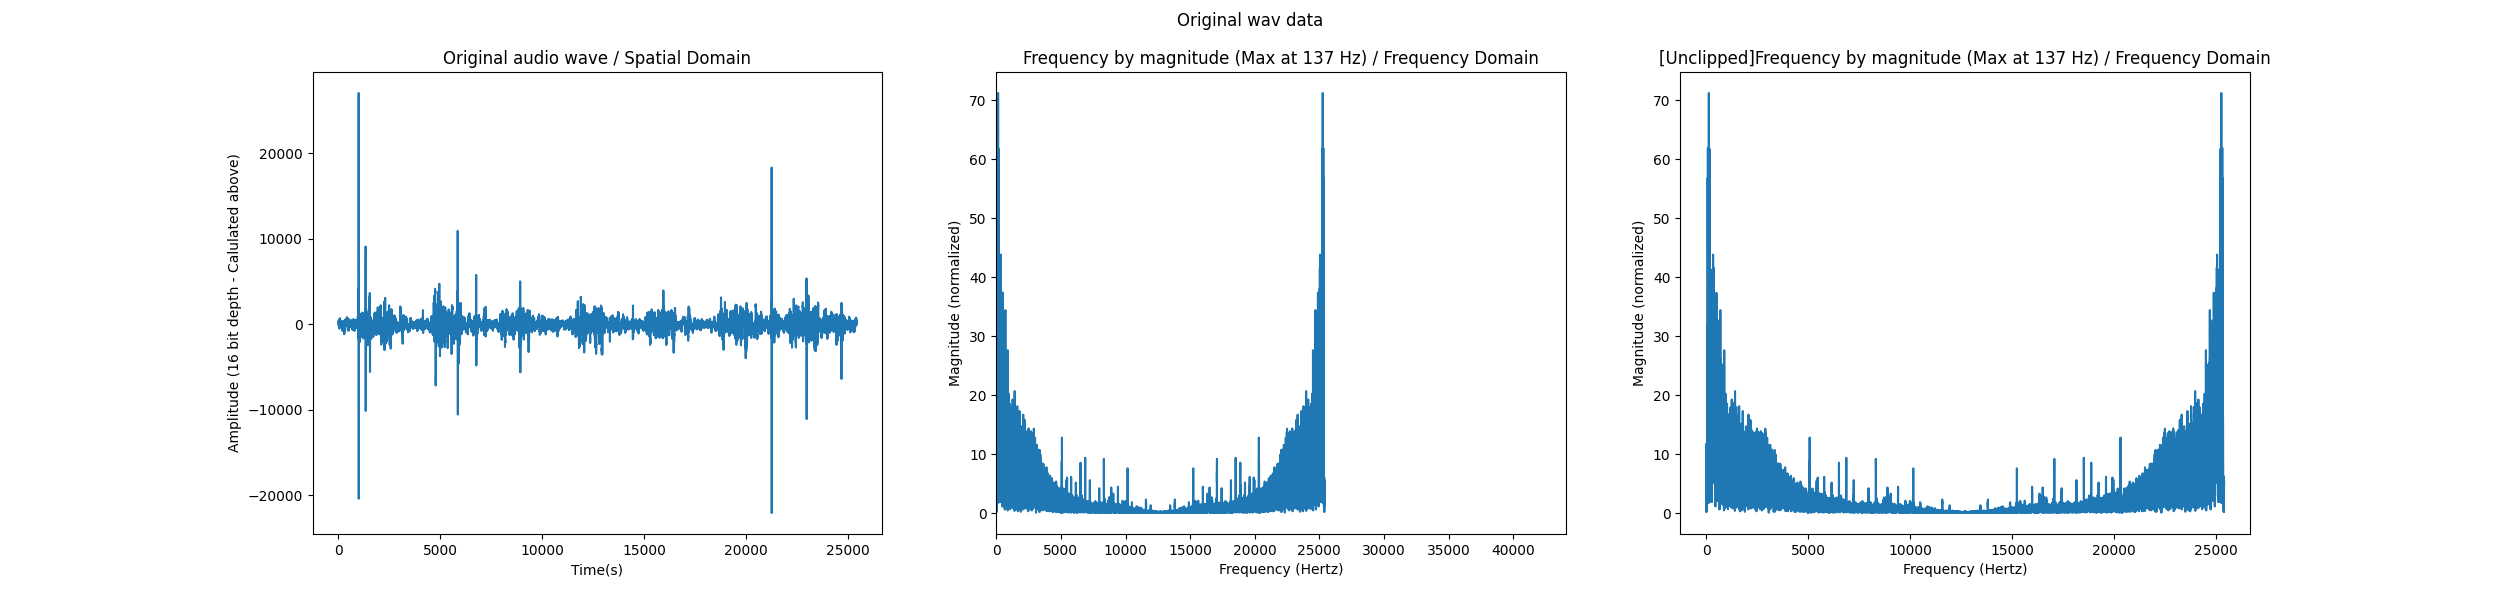

This screenshot's page, from the dashboard's own definition file:
{"tool":"powerbi","page":{"name":"Page 1","canvas":[1280,720],"ordinal":0},"visuals":[{"type":"pythonVisual","fields":{"Values":["datanormal (4).Column1"]},"box":[305.5,0,973,506.8],"z":0},{"type":"actionButton","box":[0,0,100,40],"z":1000}]}

Visuals, with their boxes on the page's 1280x720 design canvas (x1, y1, x2, y2). These are canvas units, not pixel positions in the 2500x600 screenshot, which may show the page scaled, cropped or inside an application window:
pythonVisual - datanormal (4).Column1: l=306, t=0, r=1278, b=507
actionButton: l=0, t=0, r=100, b=40
